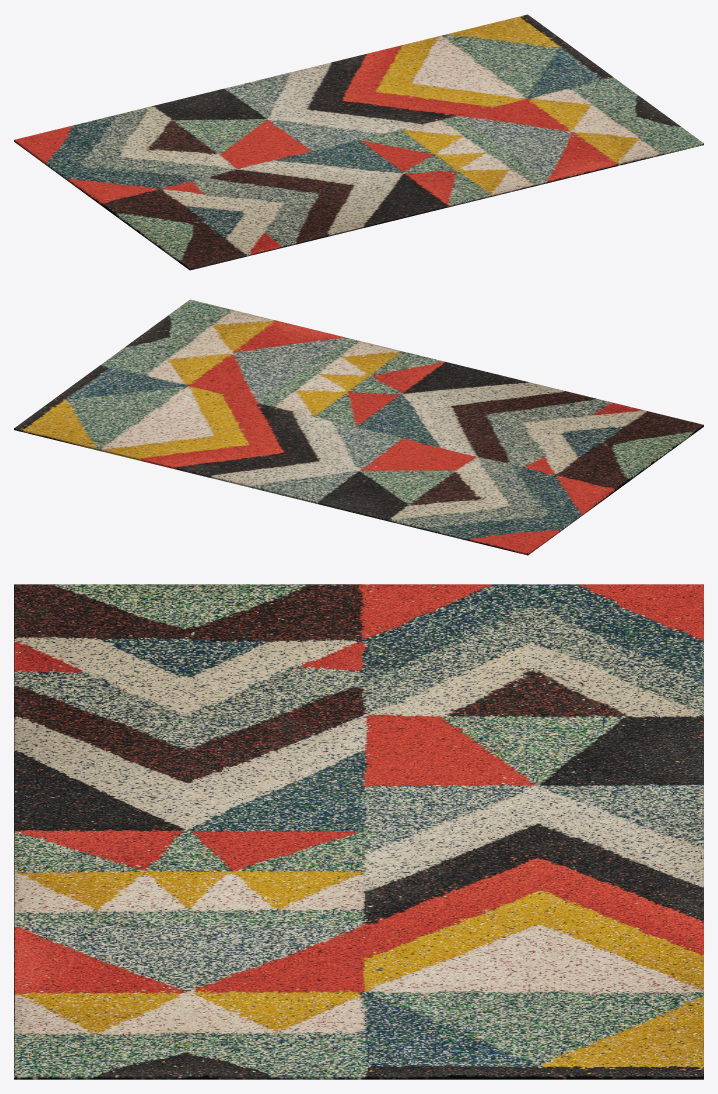
File: KuengCaputo_Teppich_2100.glb
The picture shows the model from 3 angles, top to bottom: view 1: azimuth 30°, elevation 25°; view 2: azimuth 150°, elevation 25°; view 3: azimuth 270°, elevation 25°; orthographic projection. The views are drawn at different scales.
Parts seen in each view (by area): view 1: Plane; view 2: Plane; view 3: Plane.
Boxes of the visible parts, left/top/right/bottom form: Plane: left=14, top=14, right=703, bottom=270; Plane: left=14, top=299, right=703, bottom=555; Plane: left=14, top=584, right=703, bottom=1079.
Bounding box in the file's own units: 2 × 0.0078 × 1.19.
1 material, 1 textured.
